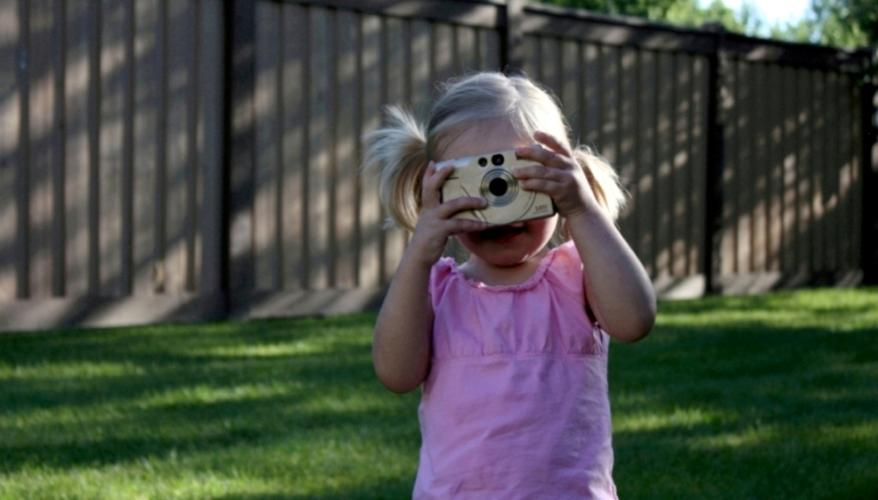person: (363, 70, 657, 500)
